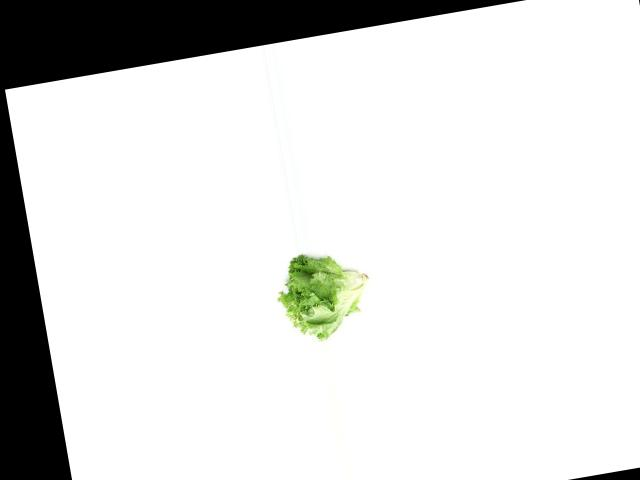lettuce: (273, 242, 379, 348)
